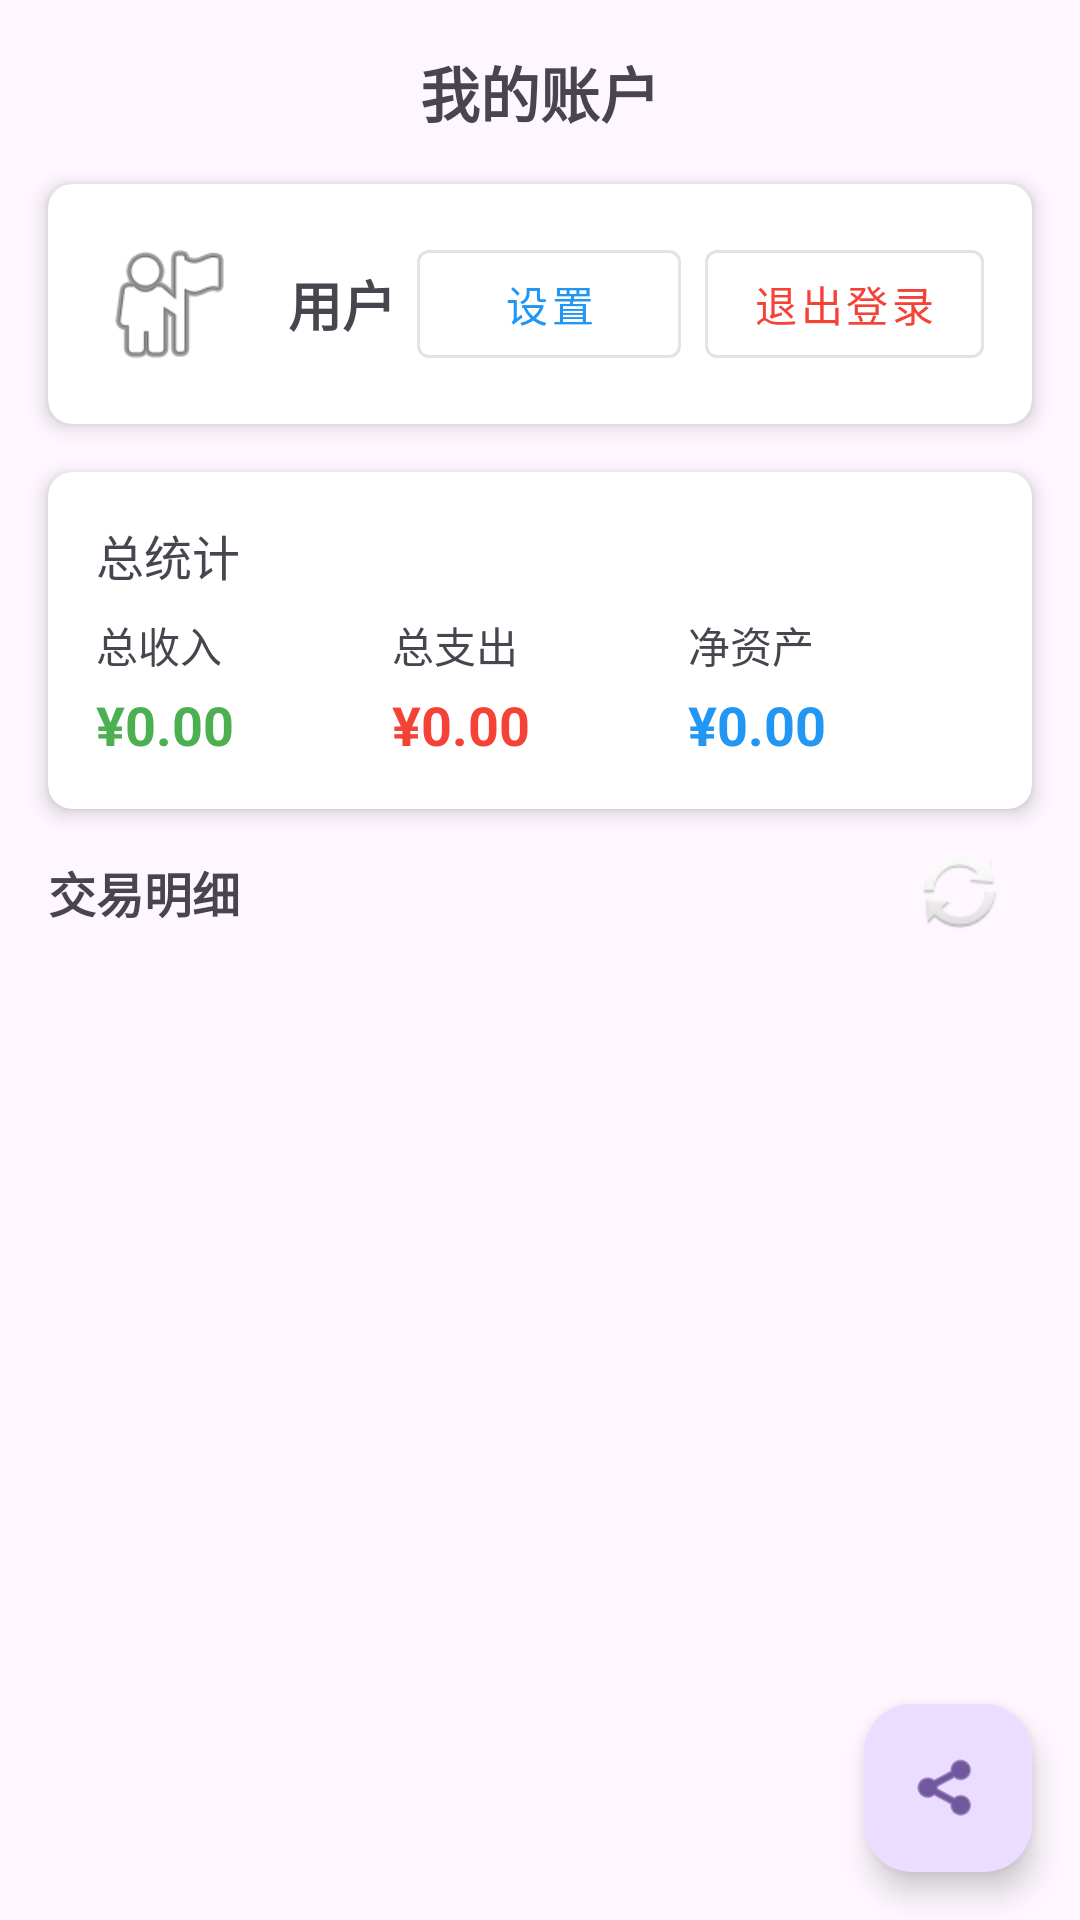

Icons on this 1080px×1920px Android screen, each with its box as (x1, y1, x2, y2):
myplaces: (115, 250, 224, 358)
分享账单: (864, 1704, 1032, 1872)
刷新数据: (924, 864, 995, 928)
